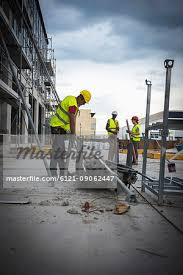helmet: (78, 88, 92, 103), (130, 116, 139, 121), (113, 110, 118, 117)
vest: (53, 92, 80, 133), (130, 124, 145, 146), (108, 120, 120, 134)
